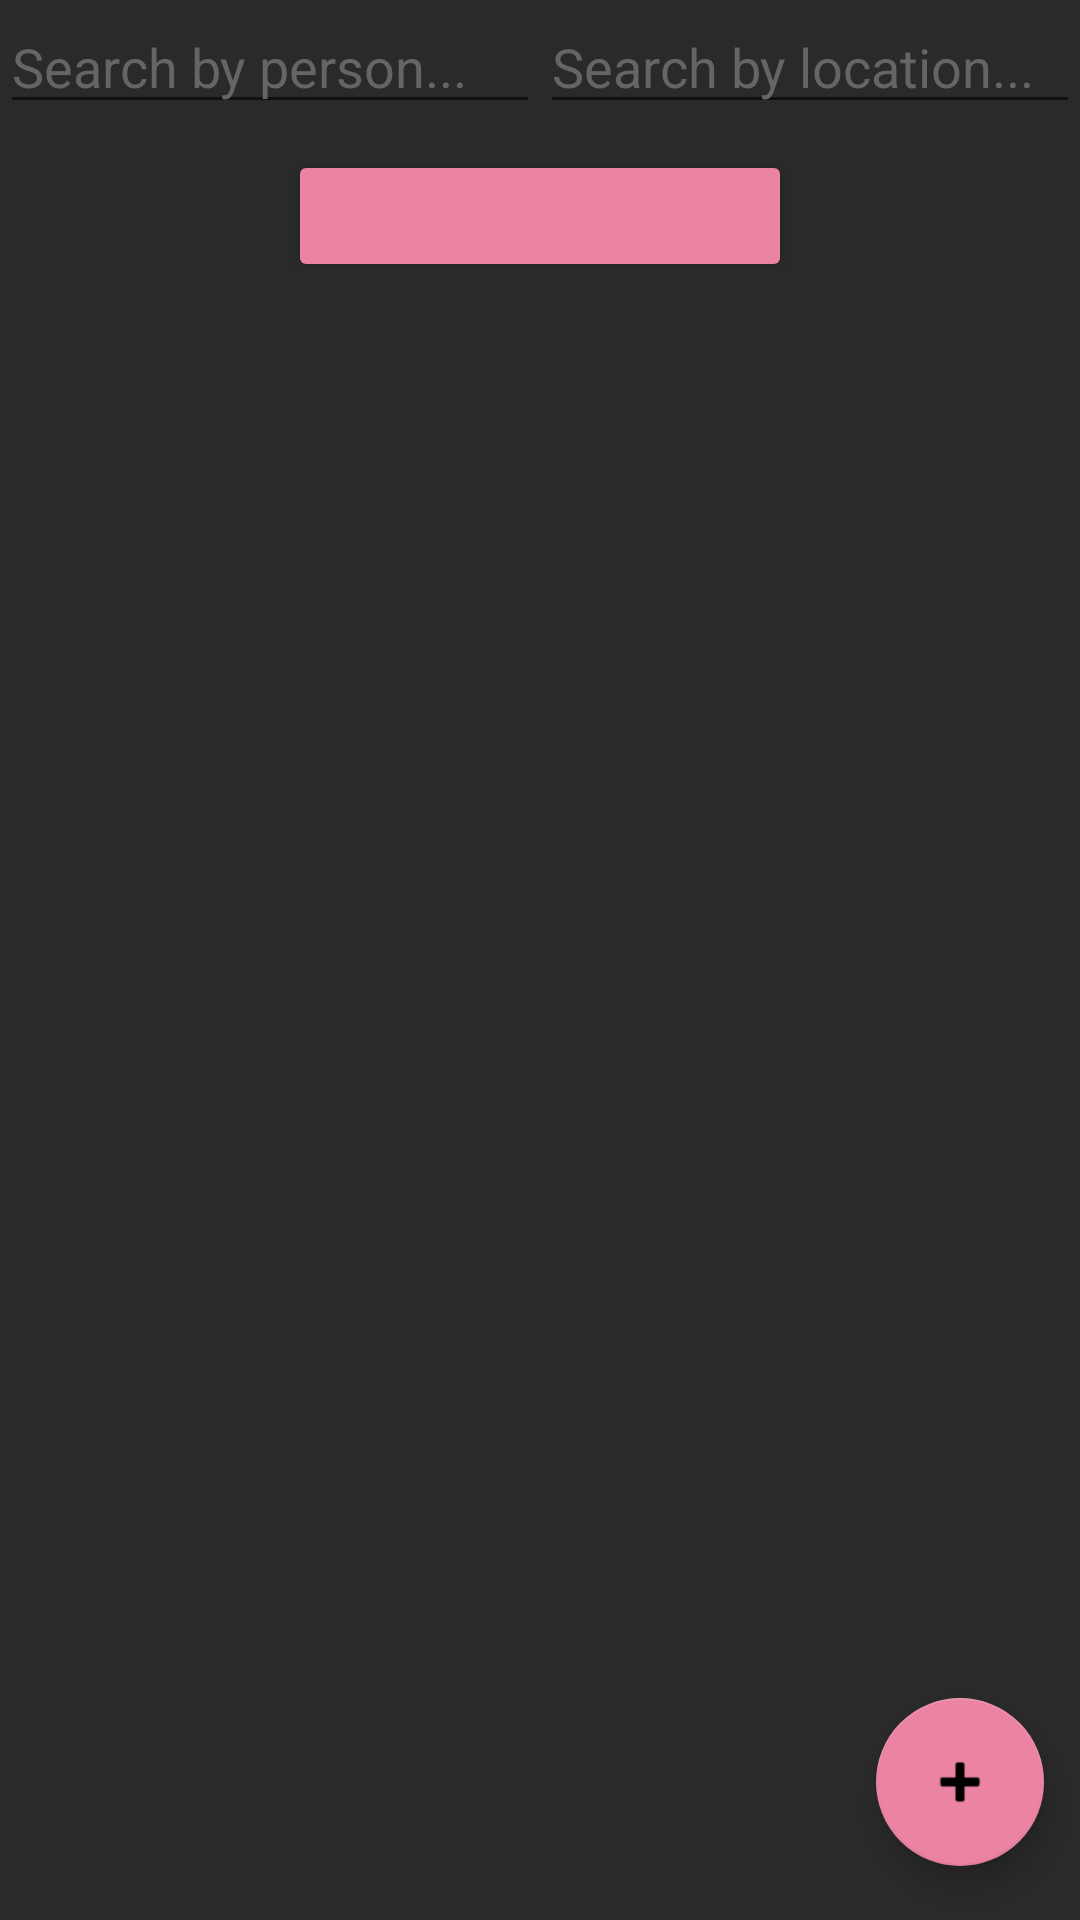

Icons on this 1080x1920 Android screen, each with its box as (left=x1, top=y1, right=x2, bottom=y2):
add: (left=876, top=1698, right=1044, bottom=1866)
